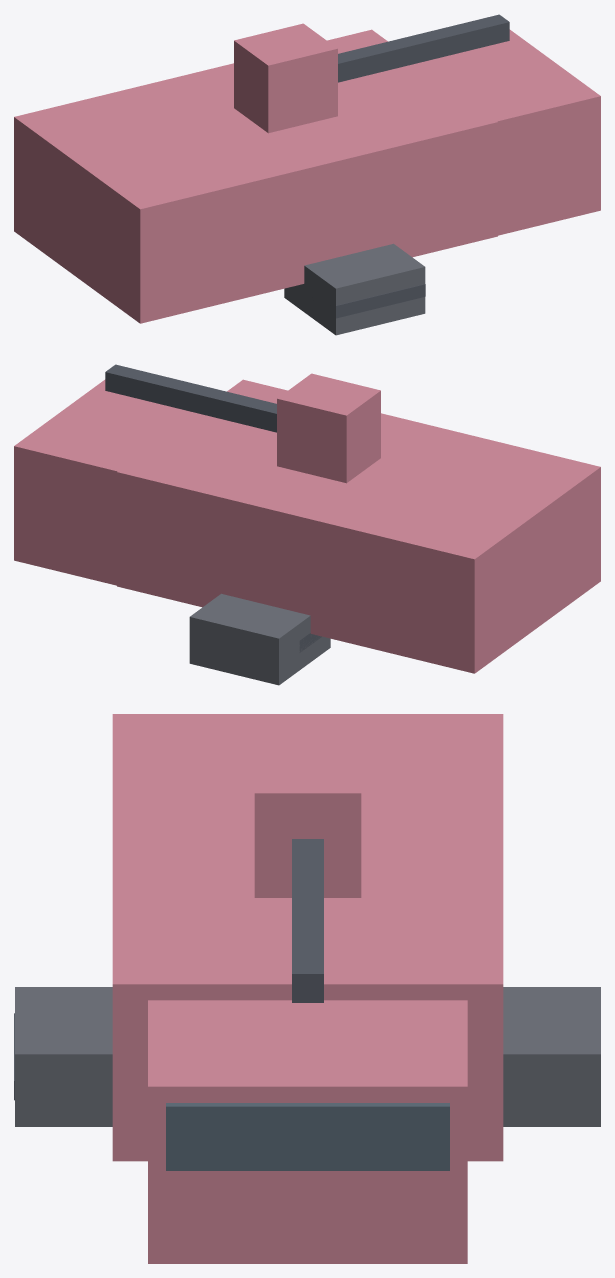
The model's file is apc_sell.glb.
3 renders of one model, top to bottom at view 1: azimuth 30°, elevation 25°; view 2: azimuth 150°, elevation 25°; view 3: azimuth 270°, elevation 25°, orthographic. The views are drawn at different scales.
Visible parts, largest first — view 1: body, gun, wheel_R; view 2: body, gun, wheel_L; view 3: body, gun, wheel_R, wheel_L.
Part boxes in pixels (x1,y1,x2,y2): body: (14, 29, 600, 323); gun: (234, 14, 509, 133); wheel_R: (284, 243, 425, 335); body: (14, 379, 600, 673); gun: (105, 364, 380, 483); wheel_L: (189, 593, 330, 685); body: (112, 714, 503, 1263); gun: (254, 741, 361, 1002); wheel_R: (14, 987, 112, 1126); wheel_L: (503, 987, 600, 1126).
Size of the model in its own units: 4.8 by 2.02 by 3.31.
